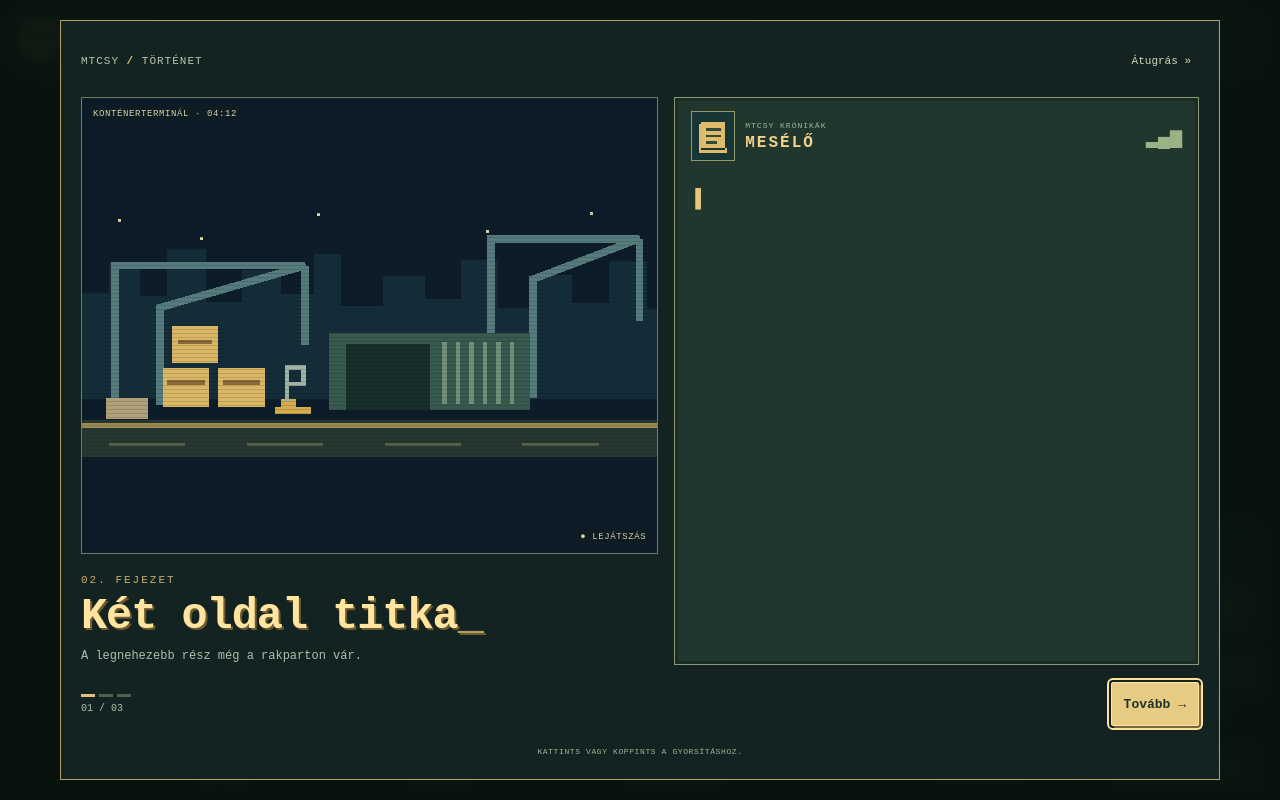
Kikötői felület › az érintést a játéktér kezeli, az újrakezdés visszaállítja a nyolc raklapot
Click the button "Átugrás »". click: (1161, 61)
box: x1=1124 y1=45 x2=1199 y2=77
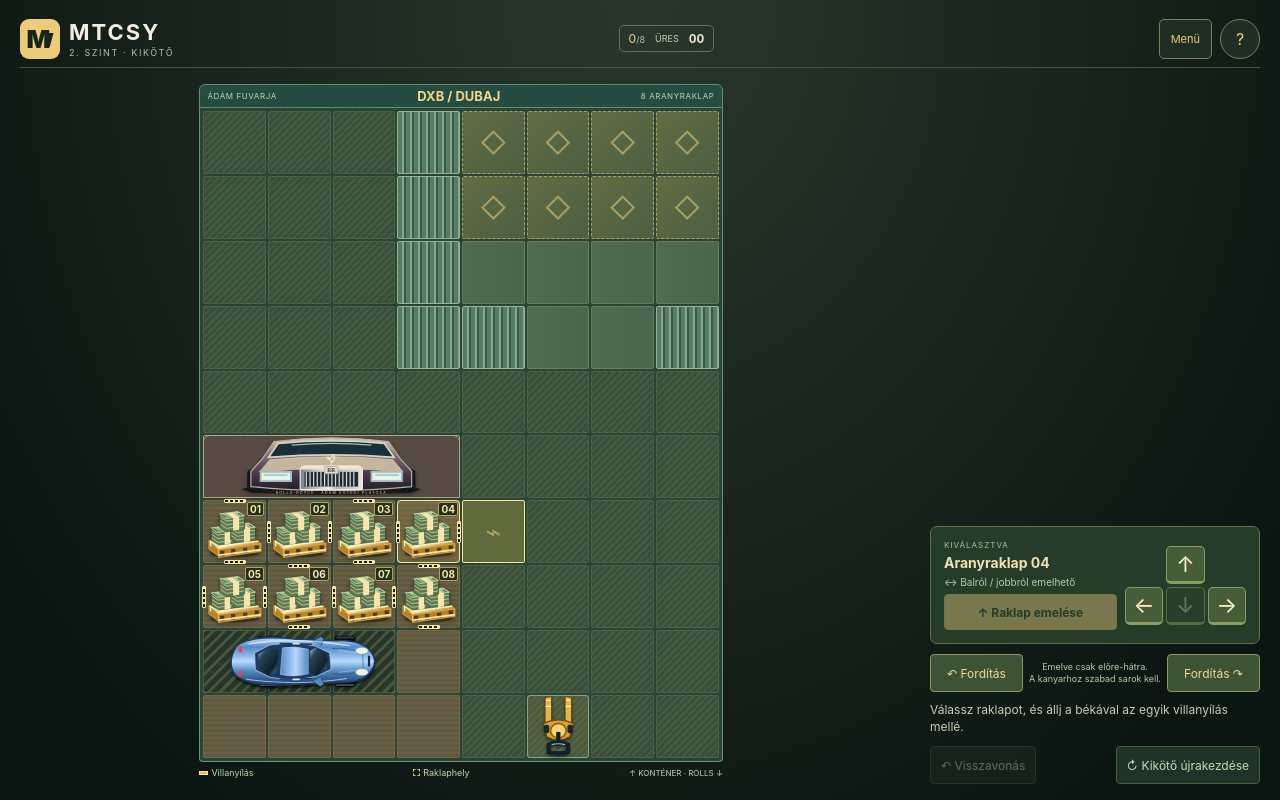
Click the button named "Béka ide: 7. sor, 5. oszlop". click: (493, 532)
box: x1=462 y1=500 x2=525 y2=563
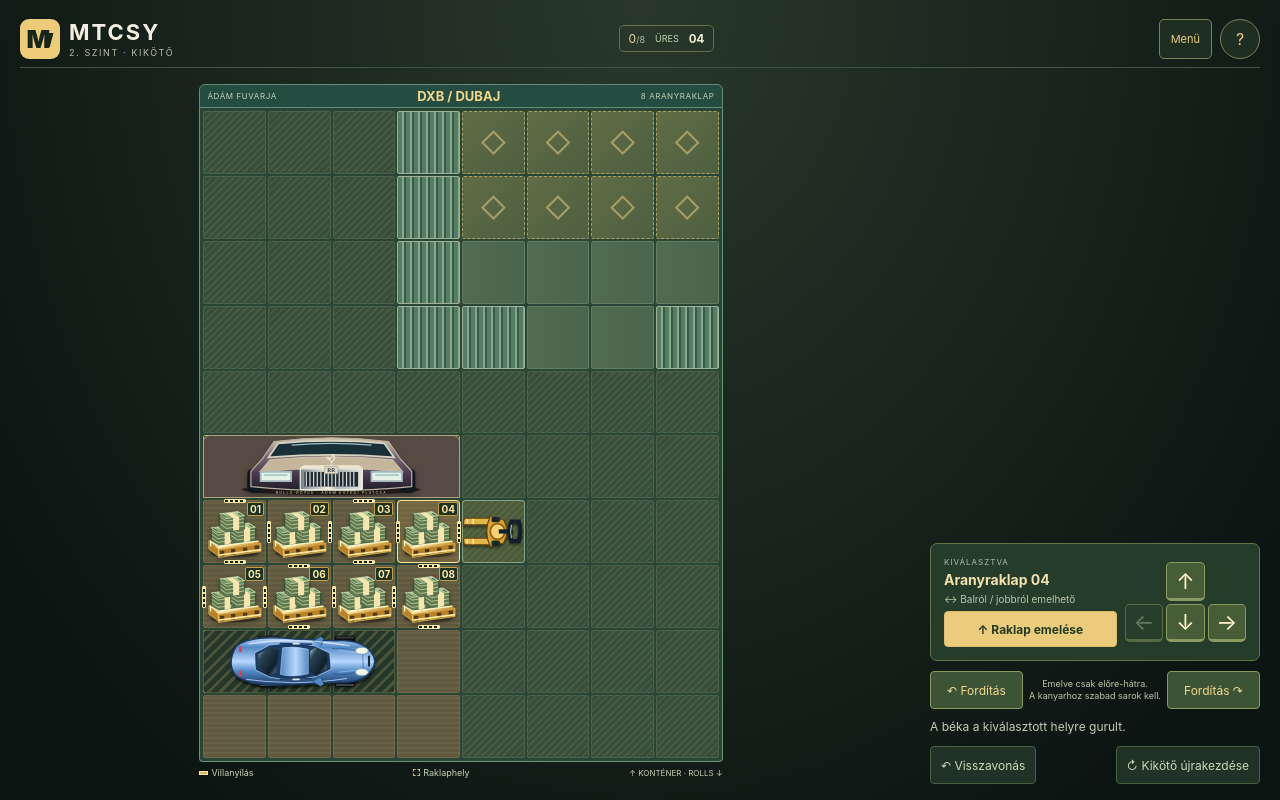
Click the button "↻ Kikötő újrakezdése". click: (1188, 765)
box: x1=1116 y1=746 x2=1260 y2=784
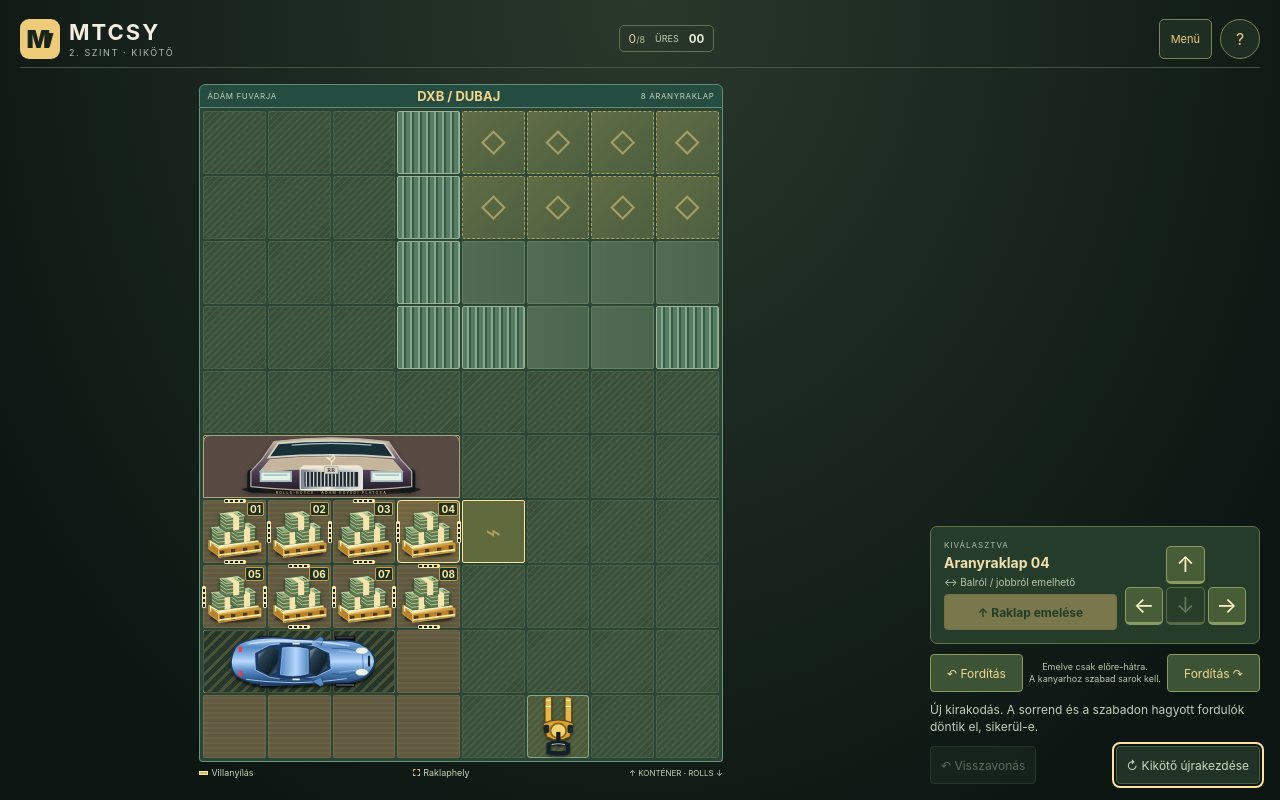
Expected: the button named "Béka, üres, 10. sor, 6. oszlop" is shown, x1=527 y1=695 x2=589 y2=758
